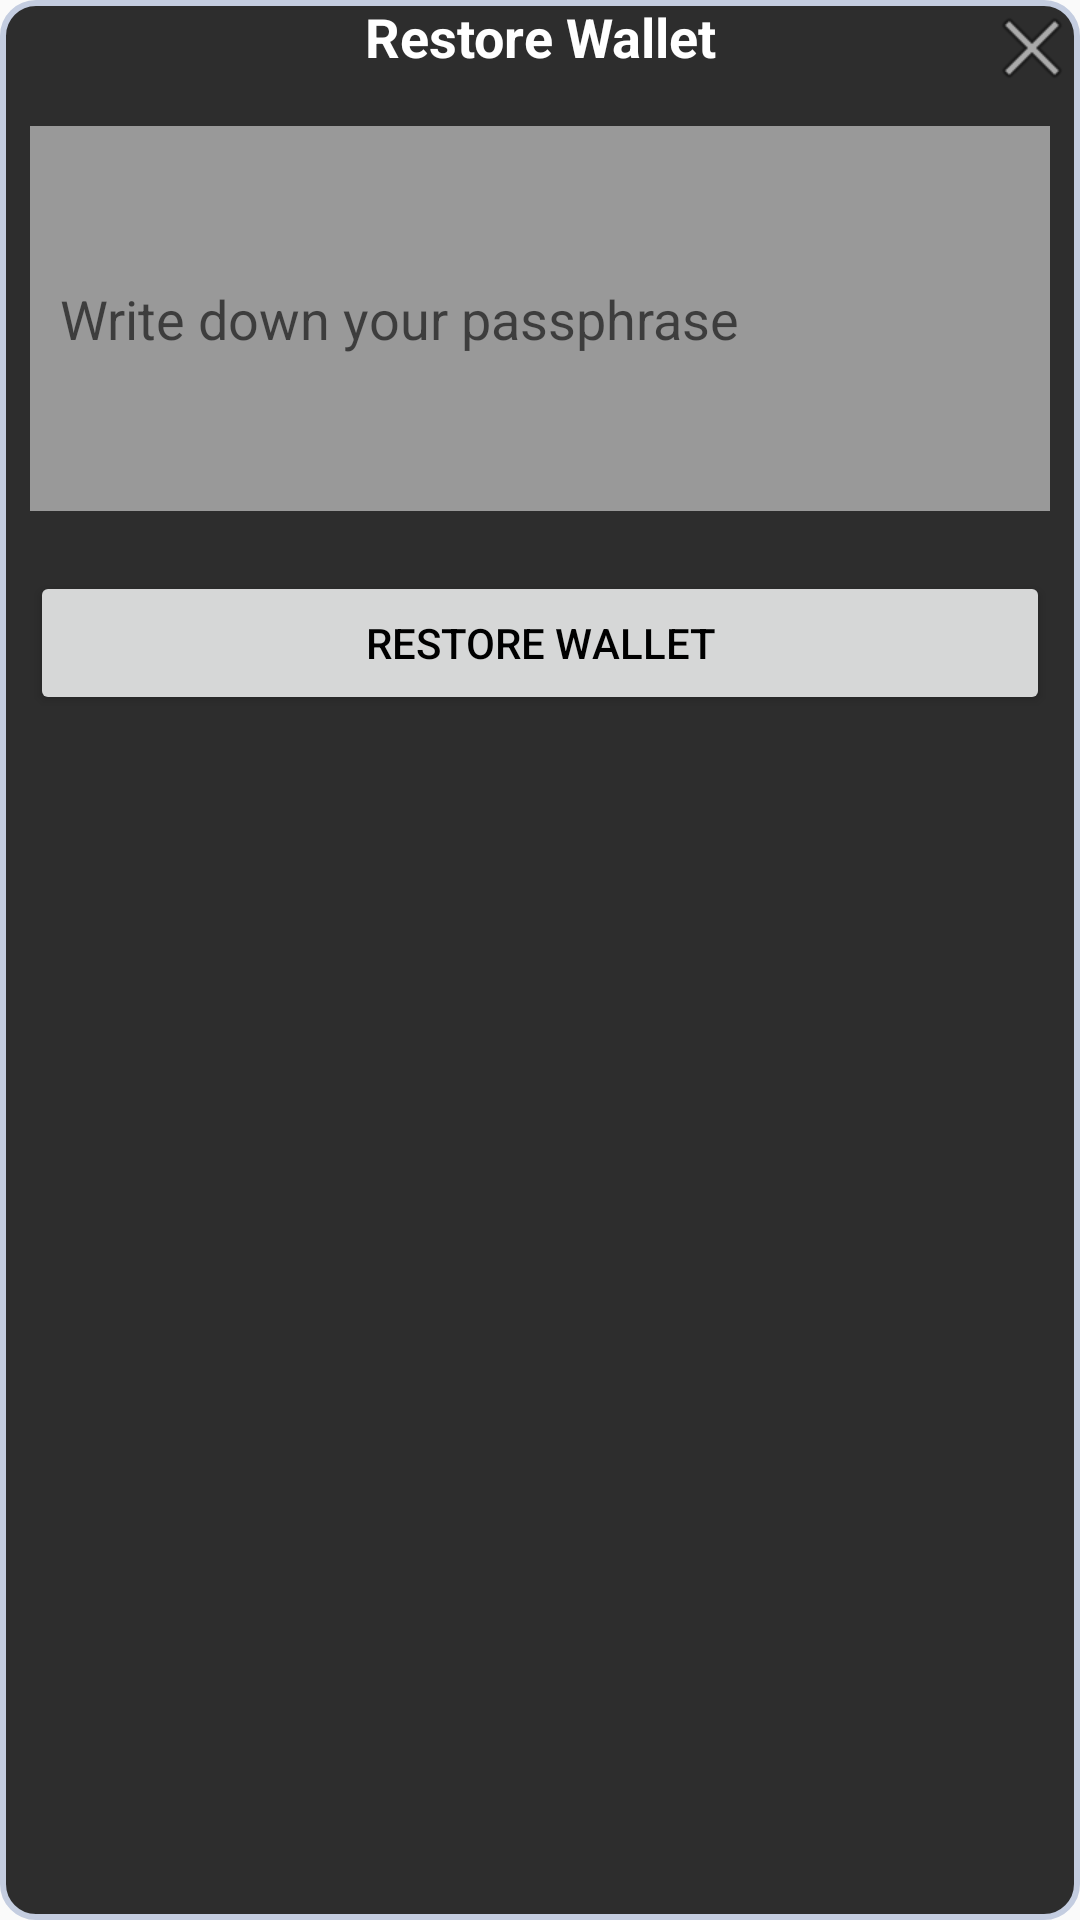

Icon click points for this 1080px x 1920px phone screenshot, format (x,y):
close clear cancel: (1032,48)
